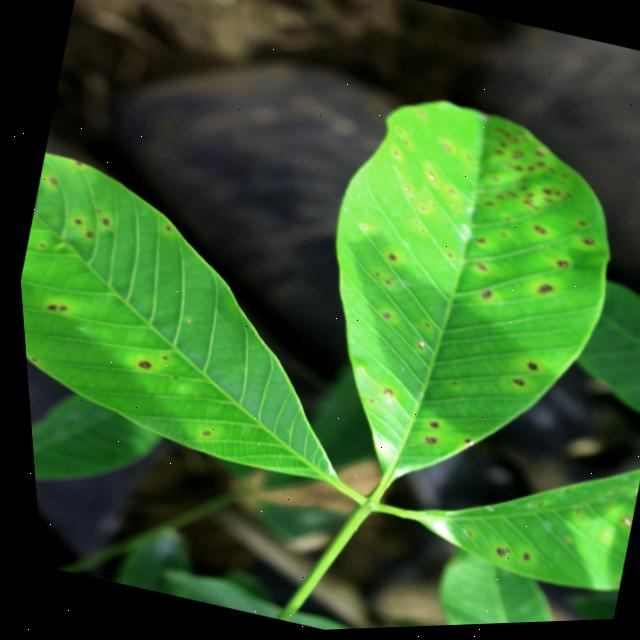Colletotrichum: (132, 360, 146, 369)
